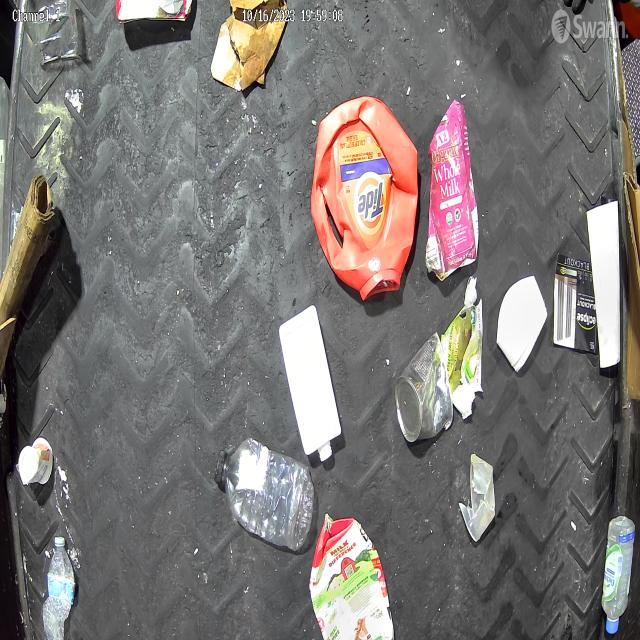can: (390, 323, 462, 458)
non_white_jug: (307, 90, 426, 312)
plastic_bottle: (209, 427, 317, 558), (594, 498, 640, 640), (34, 529, 86, 640)
